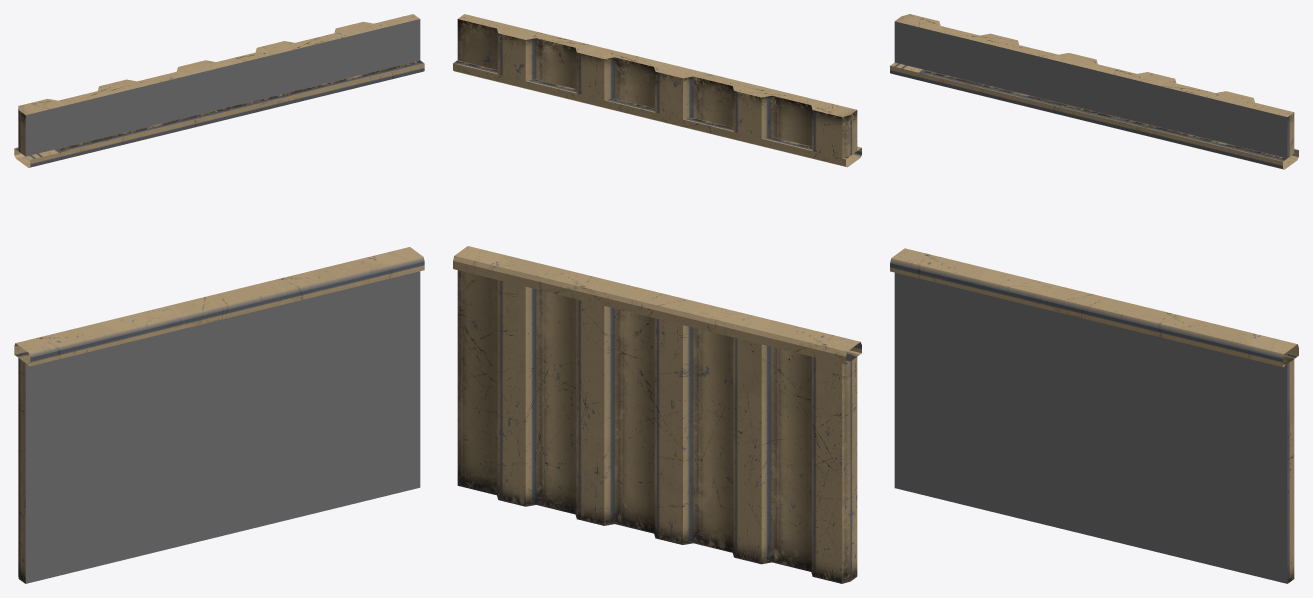
File: CnWallWindowIntA1B.fbx
3 renders of one model, left to right at view 1: azimuth 30°, elevation 25°; view 2: azimuth 150°, elevation 25°; view 3: azimuth 330°, elevation 25°, orthographic.
Visible parts, largest first — view 1: CnWallWindowIntA1B; view 2: CnWallWindowIntA1B; view 3: CnWallWindowIntA1B.
Boxes of the visible parts, x1,y1,x2,y2 form: CnWallWindowIntA1B: [14, 14, 424, 583]; CnWallWindowIntA1B: [453, 14, 861, 583]; CnWallWindowIntA1B: [890, 14, 1298, 583].
Size of the model in its own units: 200 by 227 by 14.
